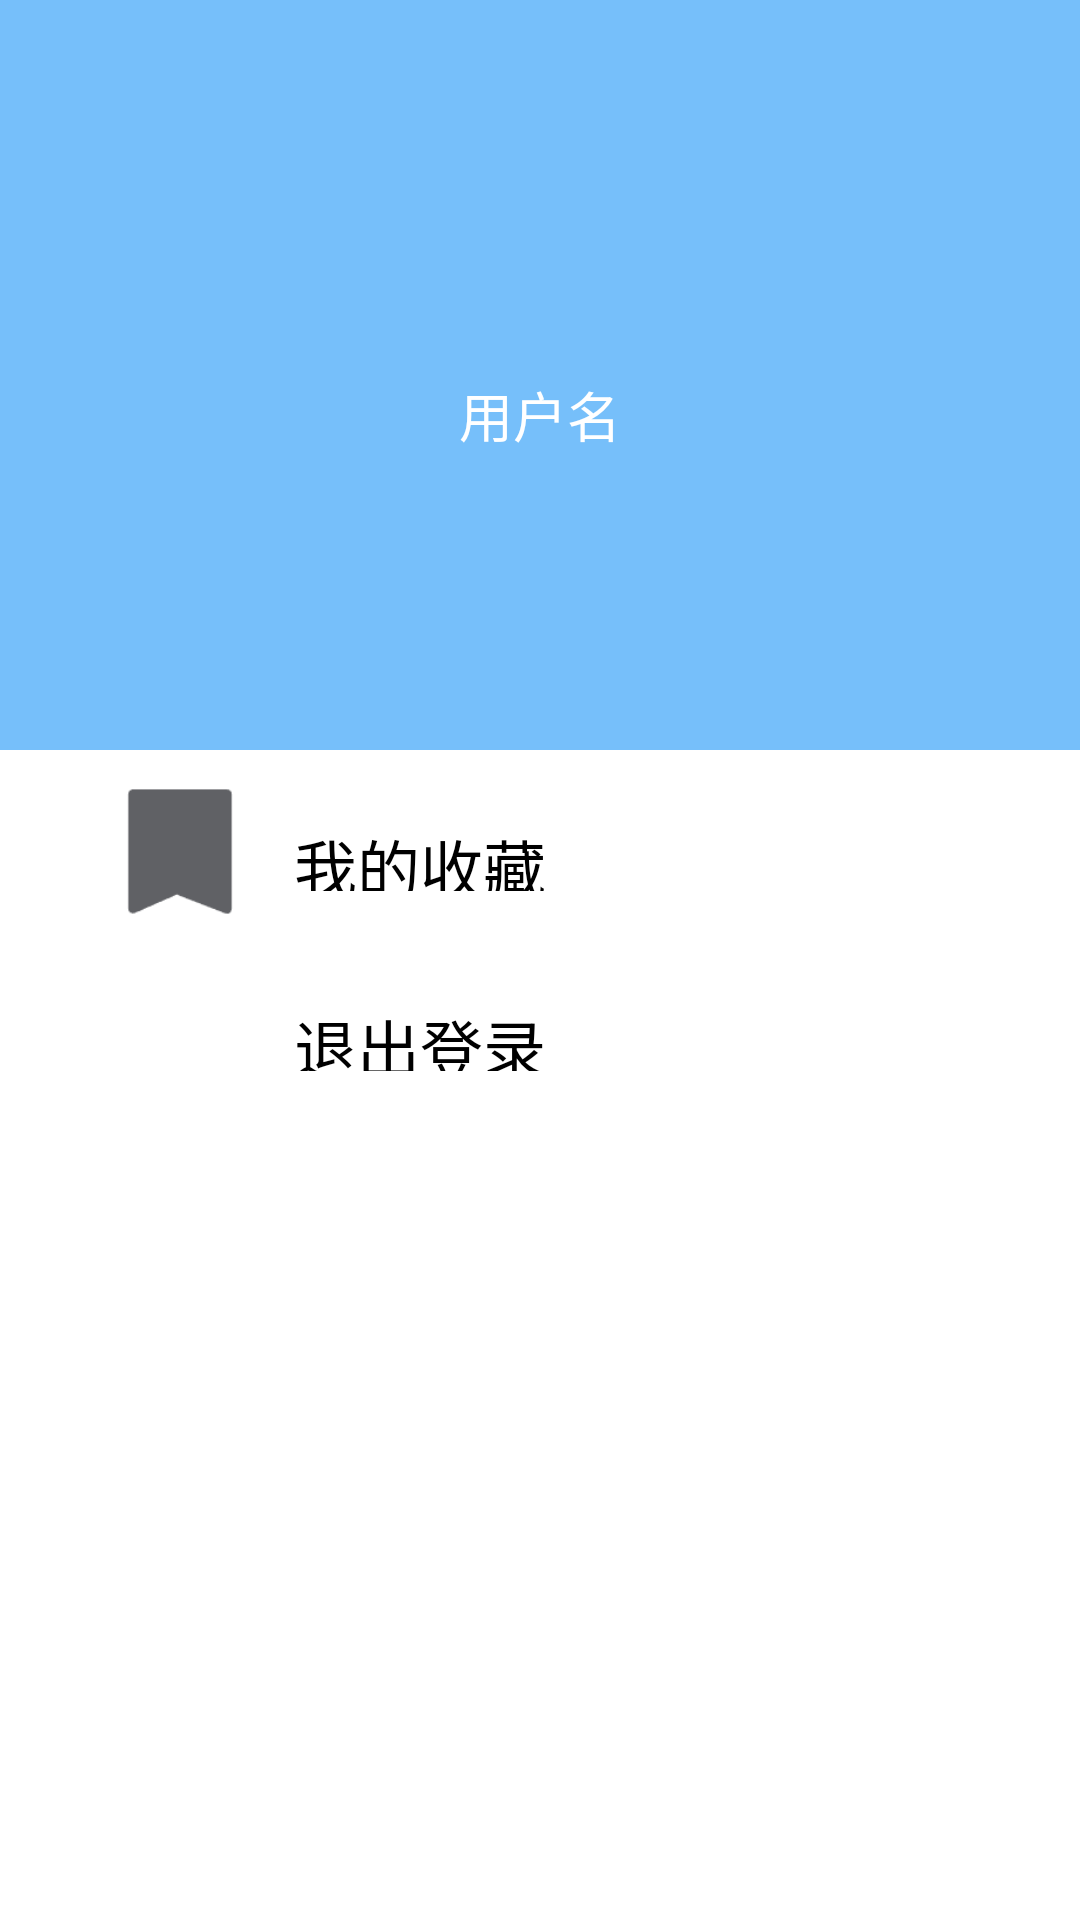

Where to tap for icons on this 1080x1920 app screen, as (x,y):
collection: (180,851)
